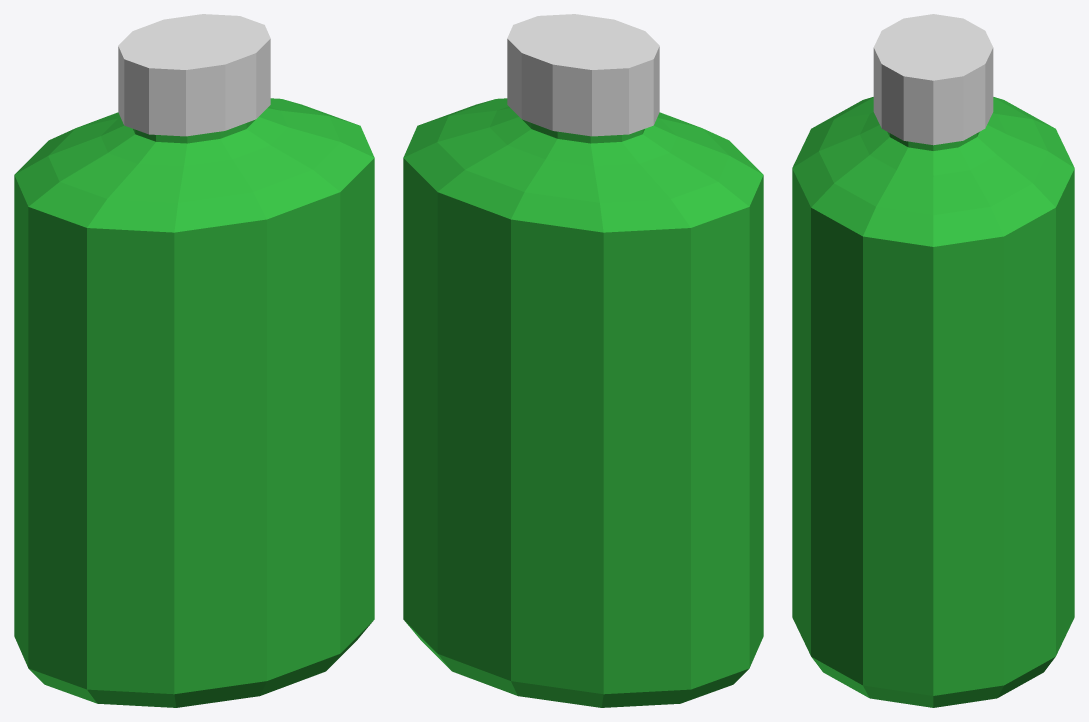
The model's file is CREAM_02.fbx.
3 views of the same model, side by side, from view 1: azimuth 30°, elevation 25°; view 2: azimuth 150°, elevation 25°; view 3: azimuth 270°, elevation 25° (orthographic). The views are drawn at different scales.
Parts seen in each view (by area): view 1: CREAM_02; view 2: CREAM_02; view 3: CREAM_02.
Part boxes in pixels (x1,y1,x2,y2): CREAM_02: (14, 14, 374, 707); CREAM_02: (403, 14, 763, 707); CREAM_02: (792, 14, 1074, 707).
Bounding box in the file's own units: 3.96 × 6.91 × 3.
